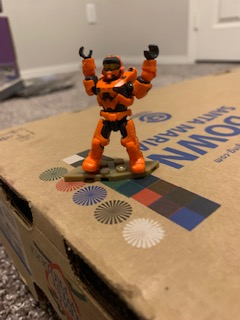spartan: (74, 43, 159, 173)
up: (75, 45, 161, 110)
